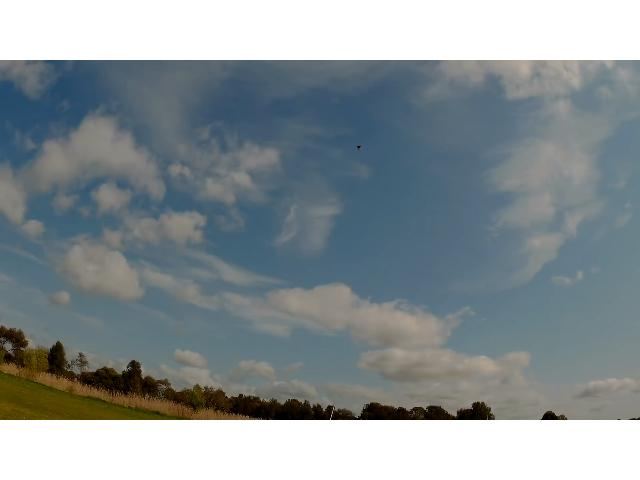Anti-Drone: (350, 136, 370, 162)
